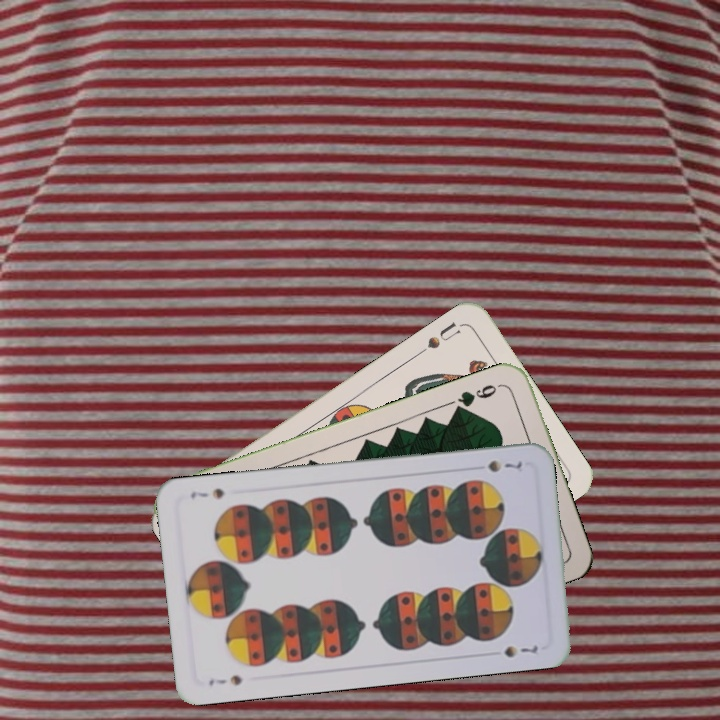G9: (450, 379, 505, 414)
S7: (484, 456, 525, 475), (205, 670, 245, 688)
SU: (413, 317, 463, 358)
